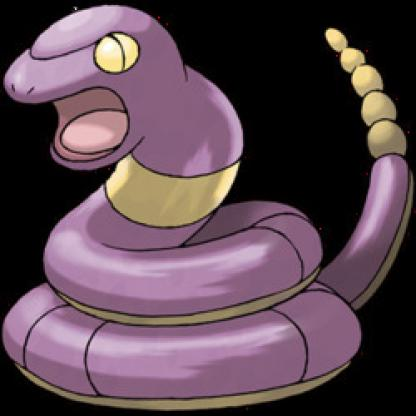Ekans: (1, 1, 416, 416)
